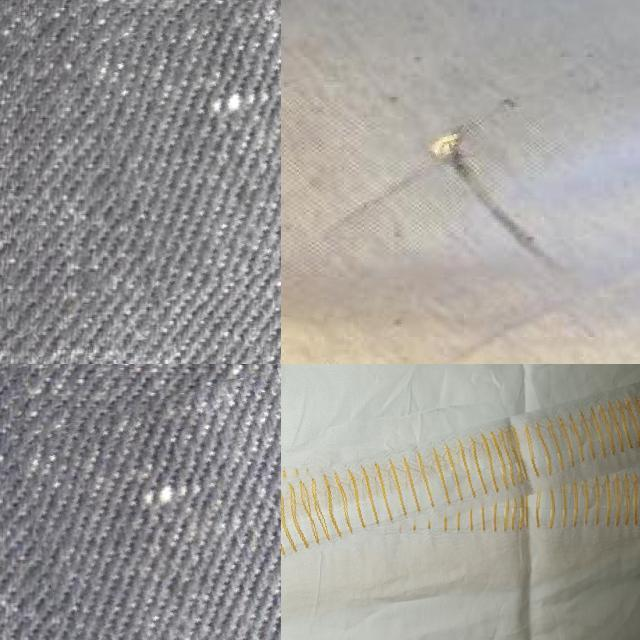Thread_out: (281, 421, 640, 583)
other: (420, 128, 470, 166)
stains: (25, 383, 281, 640), (93, 0, 281, 288)
